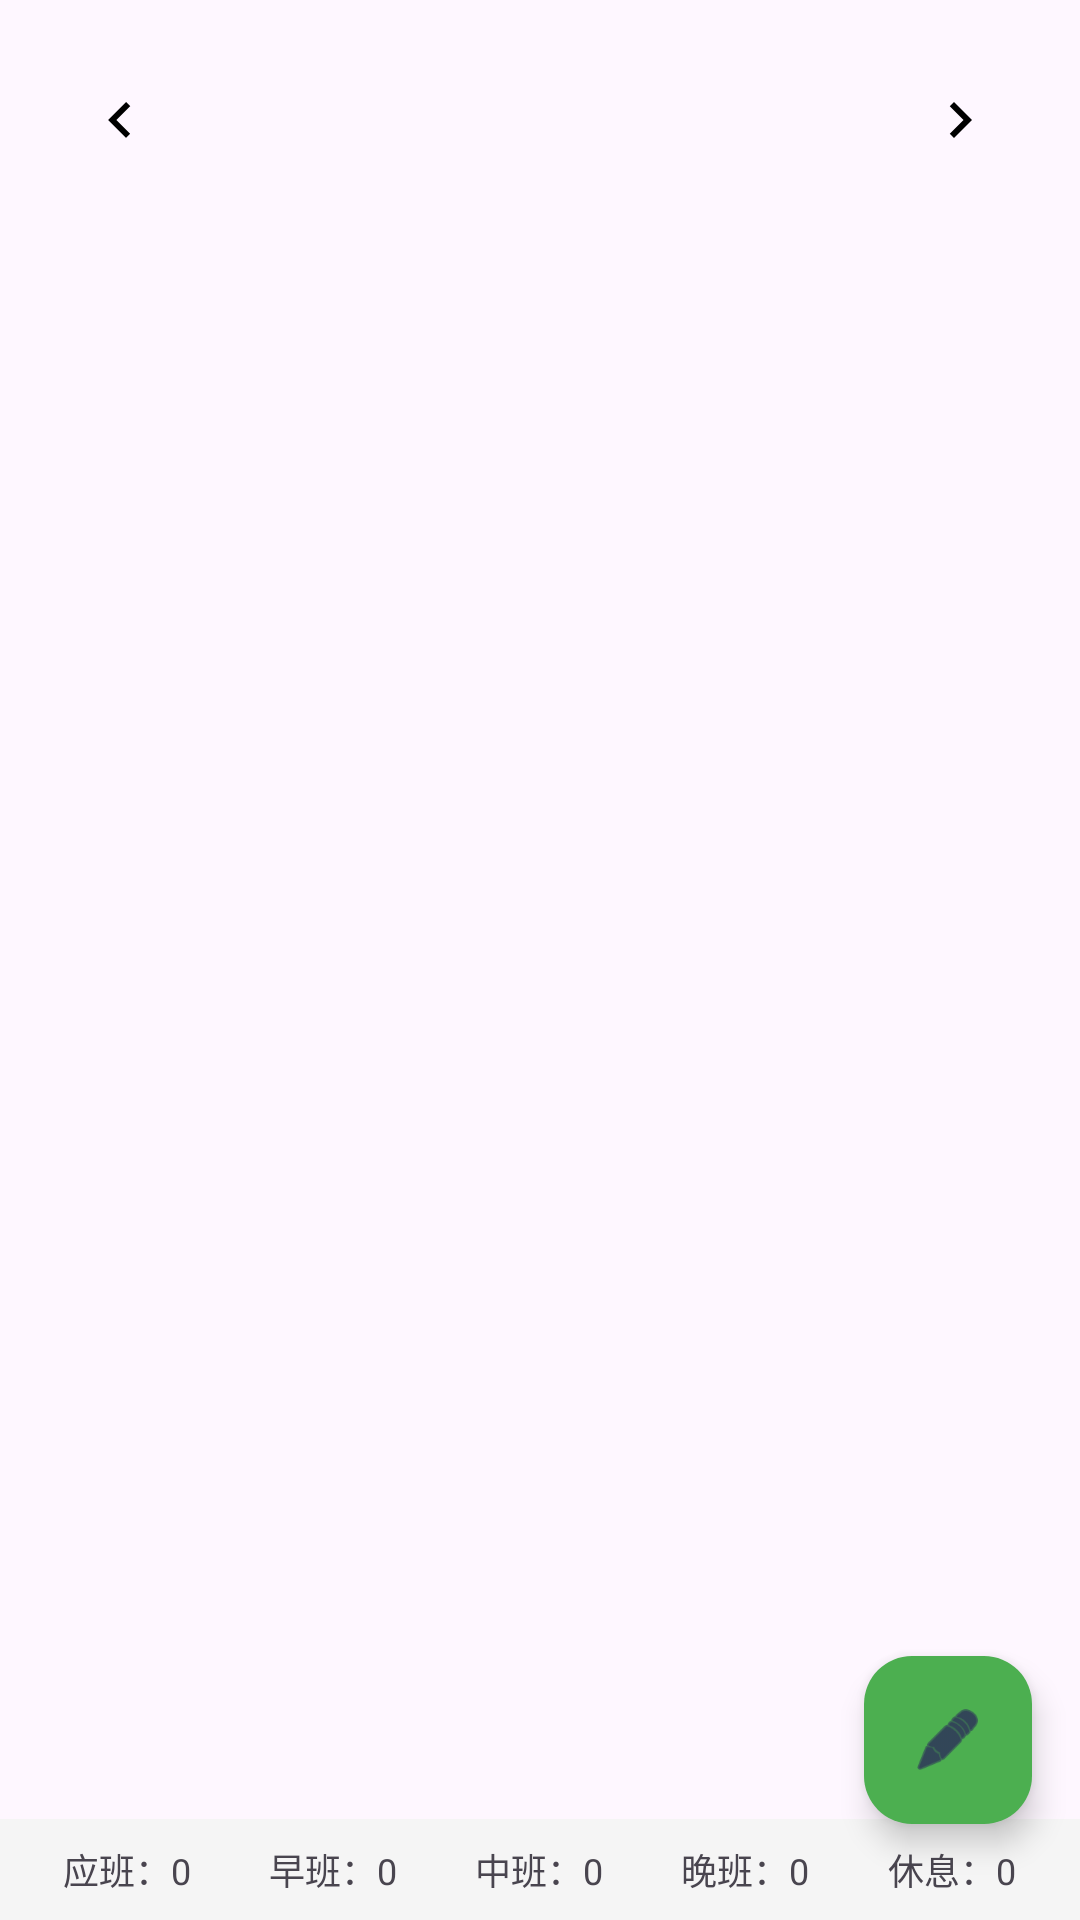

Icon click points for this 1080px×1920px phone screenshot, format point (x, y):
arrow left: point (119, 120)
arrow right: point (961, 120)
edit: point (948, 1740)
